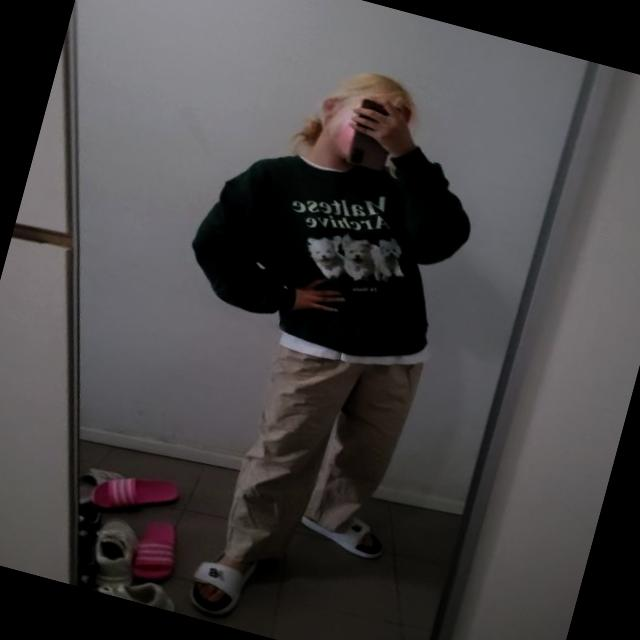cottonpants: (216, 322, 424, 597)
mtm: (176, 98, 488, 380)
